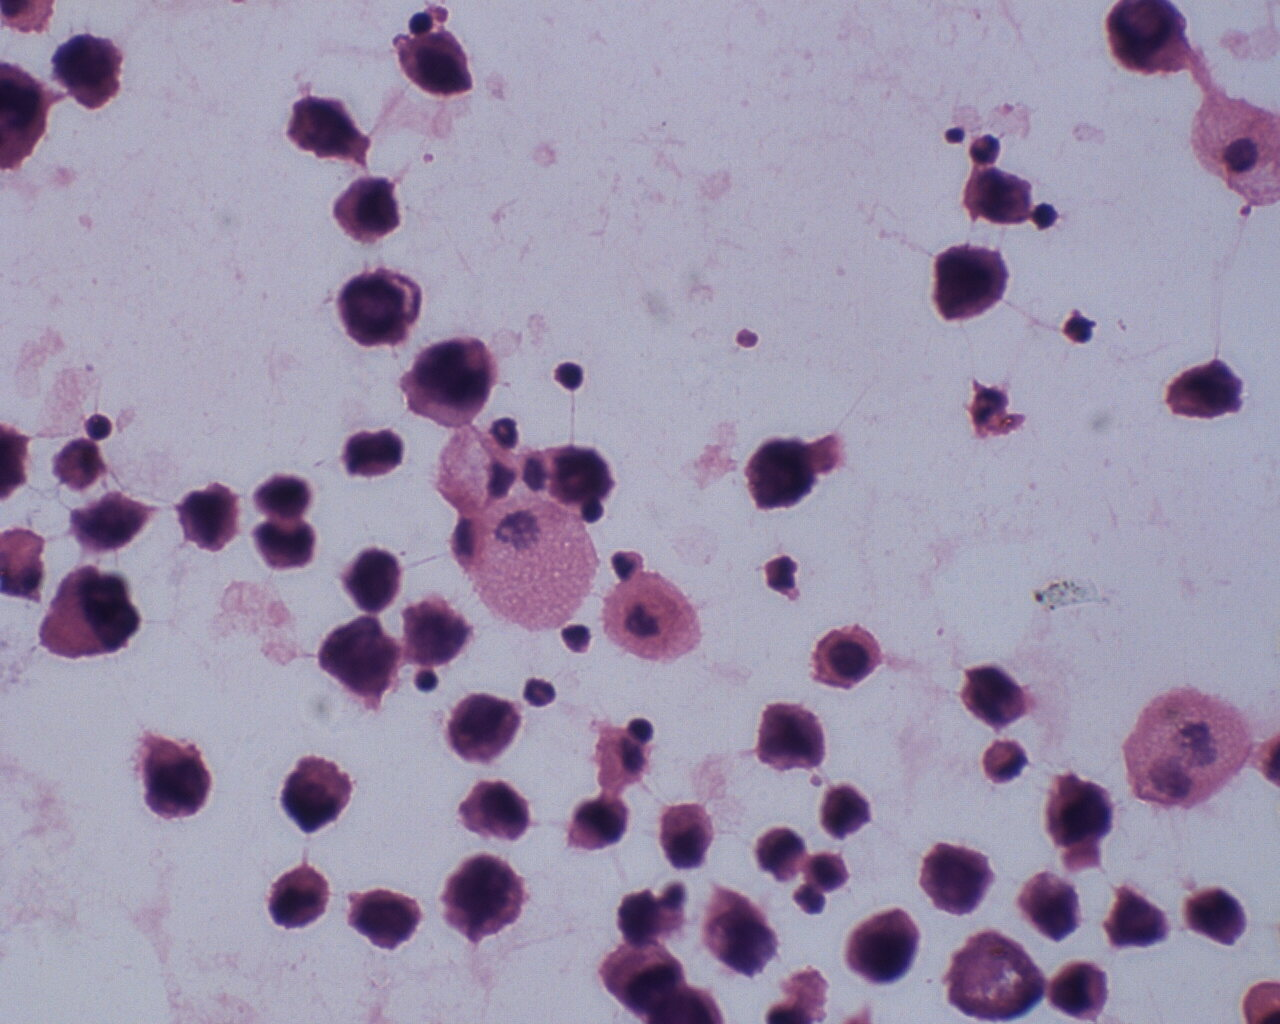ab: (38, 562, 139, 668), (403, 335, 506, 435), (127, 735, 217, 825), (440, 850, 528, 942), (929, 239, 1013, 327), (275, 753, 359, 839), (338, 269, 420, 349), (441, 692, 523, 772), (390, 30, 480, 103), (918, 838, 998, 918), (753, 699, 831, 781), (844, 903, 918, 987), (328, 169, 408, 247), (50, 32, 129, 109), (957, 661, 1034, 731), (1016, 865, 1085, 942), (346, 885, 425, 952), (1043, 774, 1112, 851), (339, 541, 409, 609), (1050, 955, 1112, 1023)
histo: (600, 574, 703, 664)
lymph: (551, 355, 594, 395)
meso: (810, 618, 881, 693)
